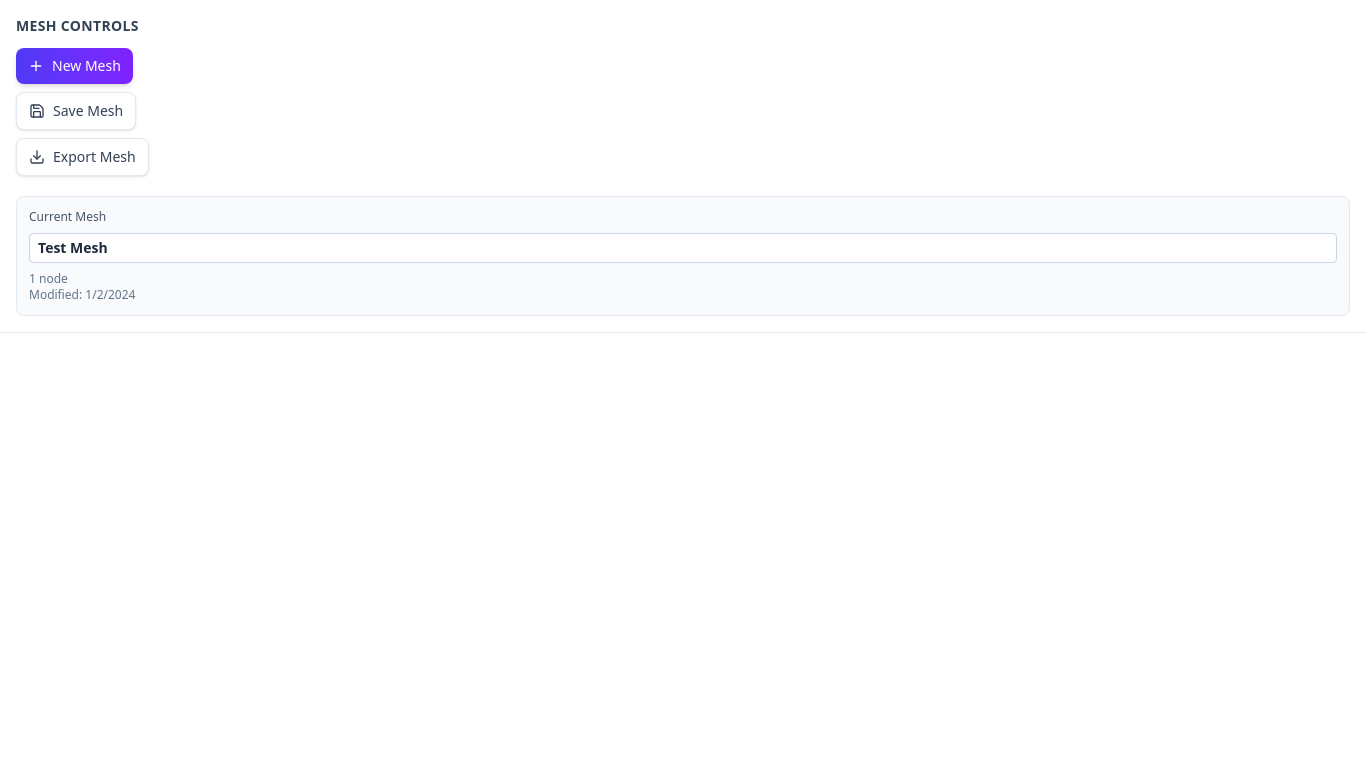
Test: DocMeshControls › allows canceling confirmation dialog
Click the button "New Mesh".
click(74, 66)  # box [16,48,133,84]
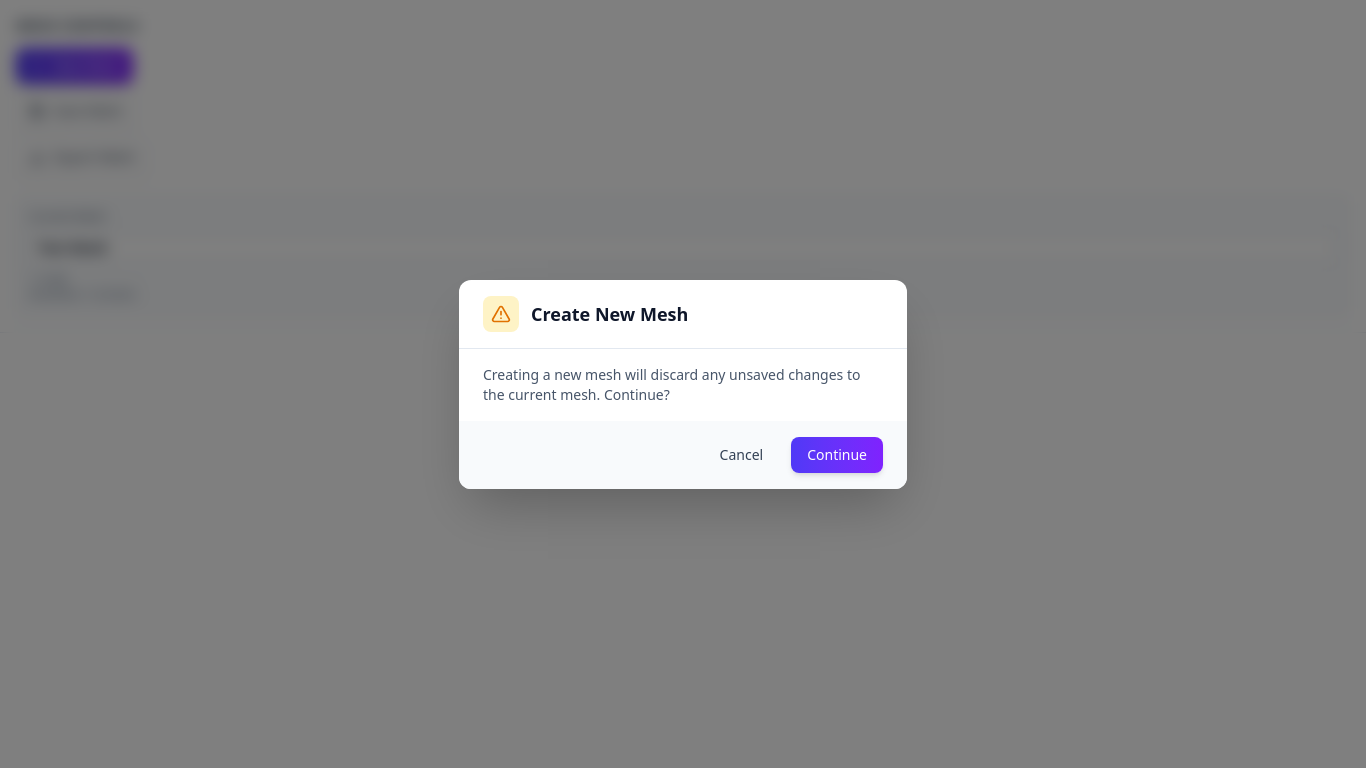
Note: Click Cancel button
Click the button "Cancel".
click(741, 454)  # box [704,436,779,472]
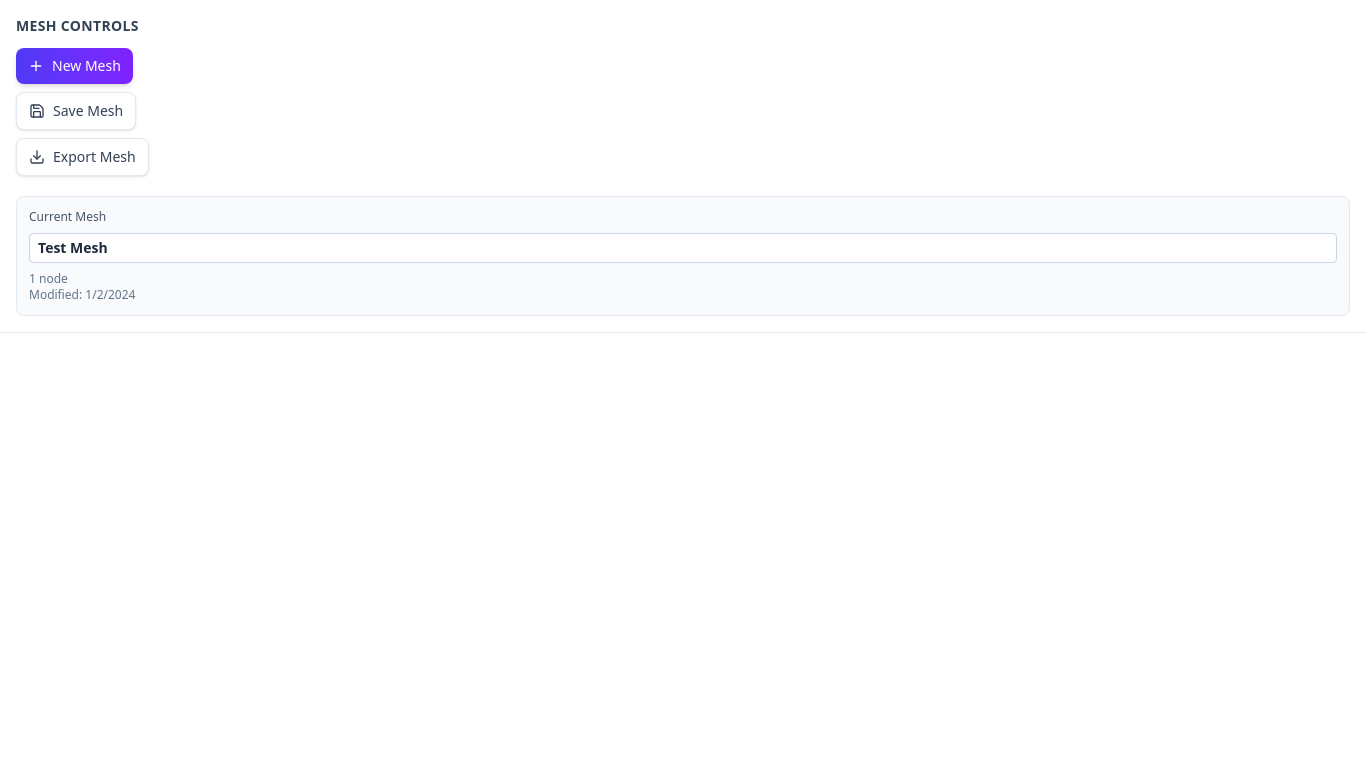
Expected: the heading "Create New Mesh" is gone
